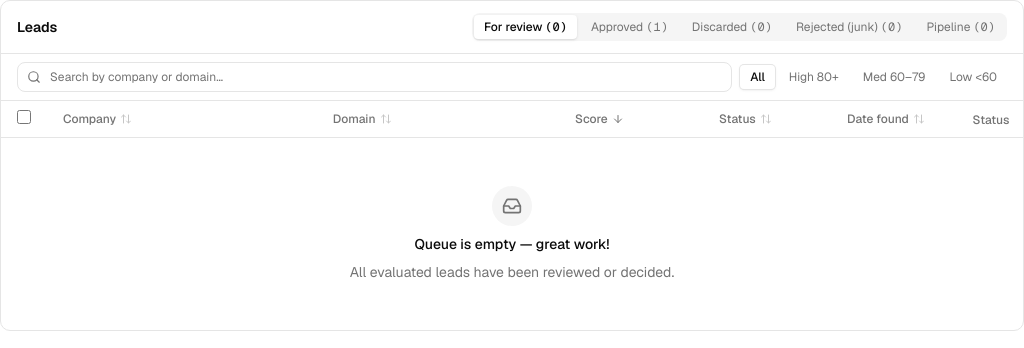
Test: Completeness dot › dot is red for incomplete lead
The width and height of the screenshot is (1024, 348).
Click the tab "Approved (1)": (629, 27) [581,15,678,39]
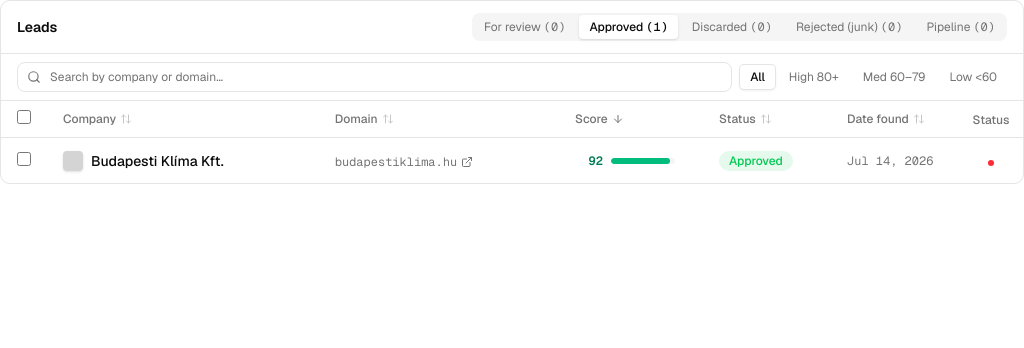
Now the element named "Missing: Screenshot, Email" is shown, box [988,160,994,166]
